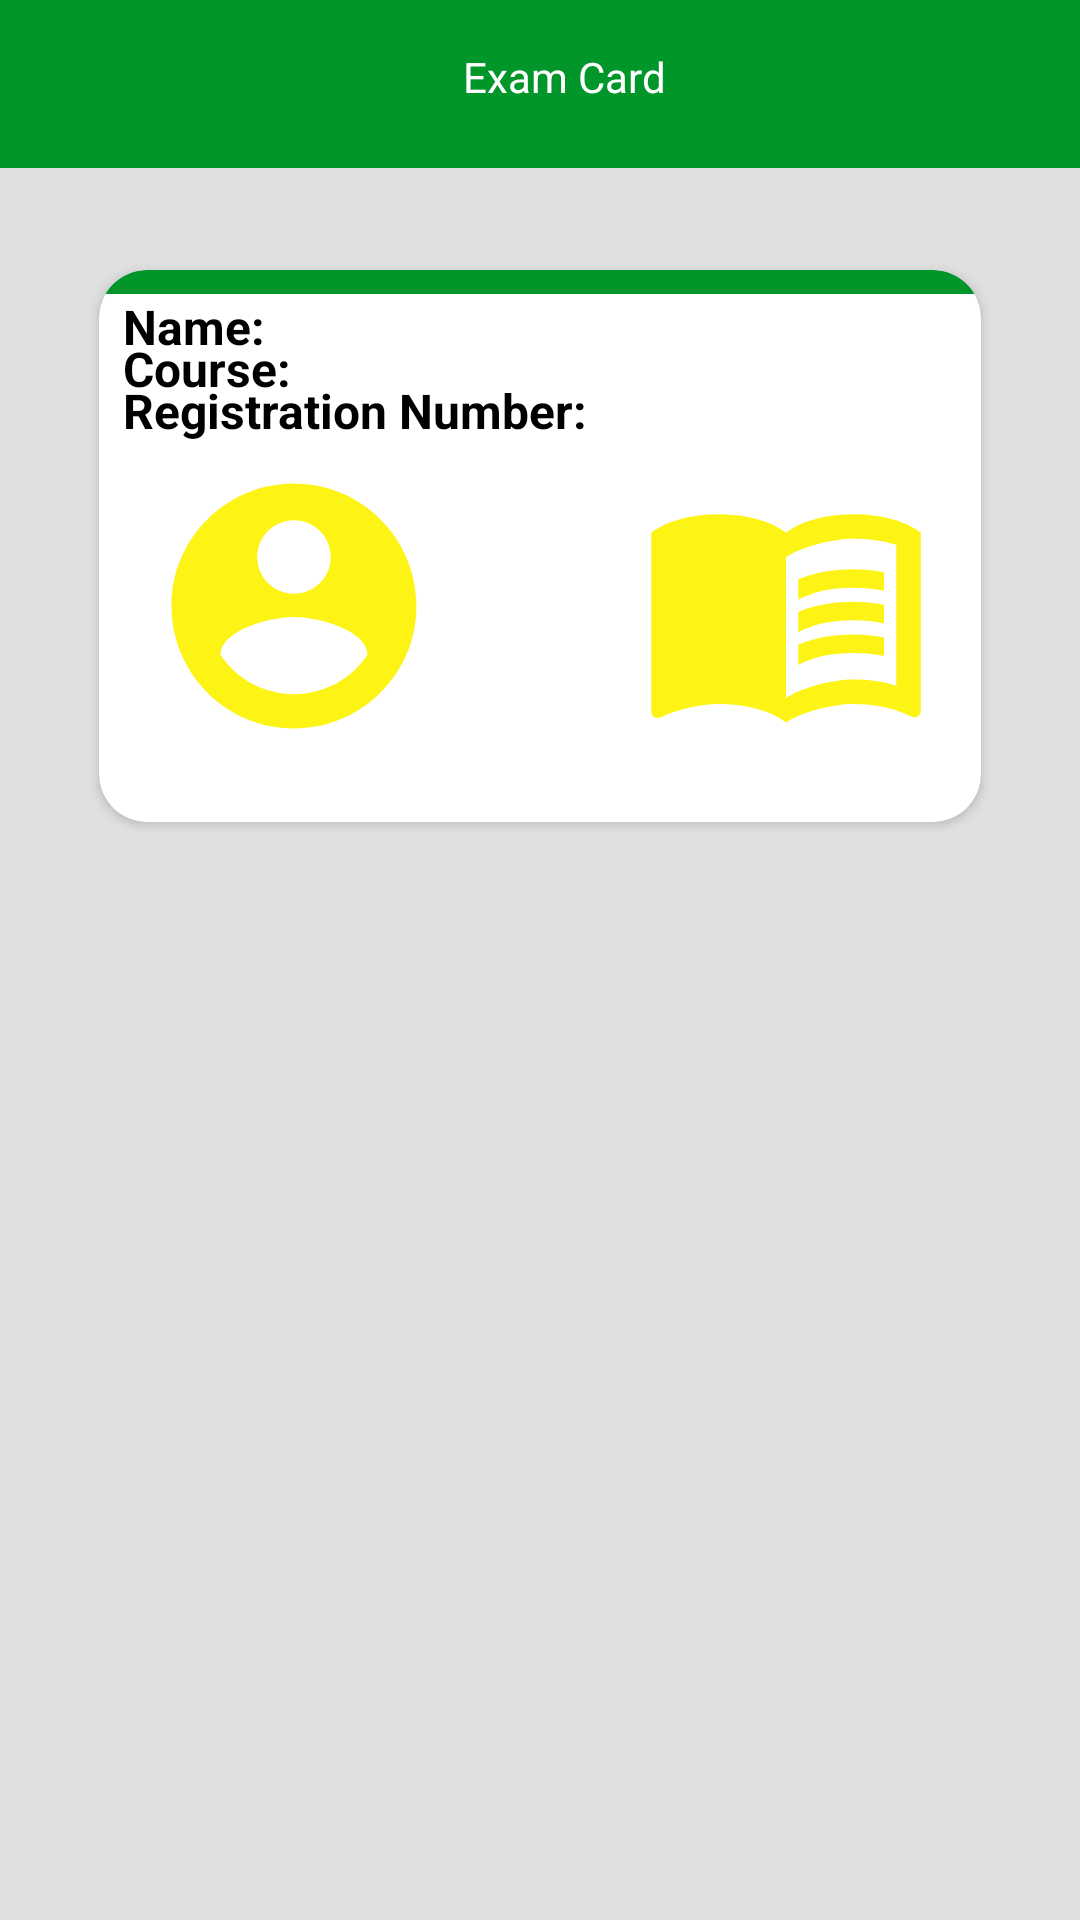

Icons on this 1080 × 1920 Android screen, each with its box as (x1, y1, x2, y2):
account circle: (171, 483, 417, 729)
